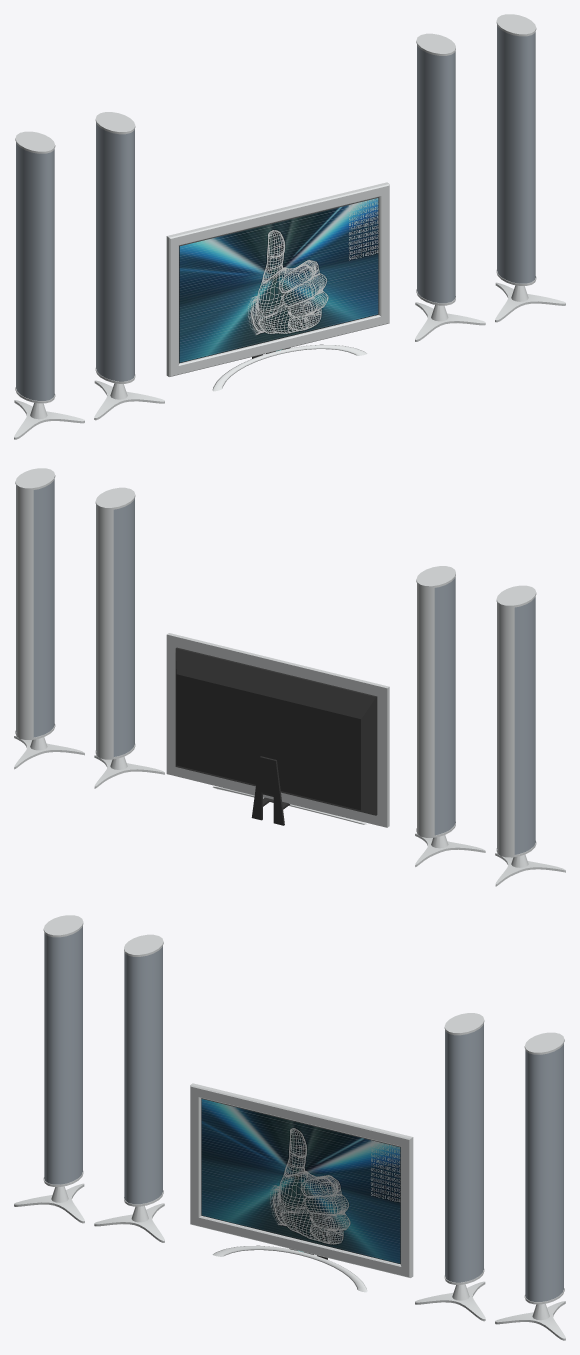
The picture shows the model from 3 angles, top to bottom: view 1: azimuth 30°, elevation 25°; view 2: azimuth 150°, elevation 25°; view 3: azimuth 330°, elevation 25°; orthographic projection.
Visible parts, largest first — view 1: tv_16x9_box01, tv_as-1_case_03, tv_as-1_case_01, tv_as-1_case_02, tv_as-1_case_04, tv_as-1_leg_02, tv_as-1_leg_03, tv_as-1_leg_01, tv_as-1_leg_04, tv_leg_torus01; view 2: tv_16x9_box01, tv_as-1_case_02, tv_as-1_case_03, tv_as-1_case_04, tv_as-1_case_01, tv_as-1_leg_03, tv_as-1_leg_04, tv_as-1_leg_02, tv_as-1_leg_01; view 3: tv_16x9_box01, tv_as-1_case_04, tv_as-1_case_01, tv_as-1_case_02, tv_as-1_case_03, tv_as-1_leg_01, tv_as-1_leg_04, tv_as-1_leg_02, tv_as-1_leg_03, tv_leg_torus01.
Boxes of the visible parts, x1,y1,x2,y2 form: tv_16x9_box01: (166,182,389,376); tv_as-1_case_03: (15,131,55,403); tv_as-1_case_01: (95,112,135,383); tv_as-1_case_02: (416,33,455,305); tv_as-1_case_04: (496,14,536,285); tv_as-1_leg_02: (415,302,485,341); tv_as-1_leg_03: (14,400,84,439); tv_as-1_leg_01: (94,380,164,420); tv_as-1_leg_04: (495,282,565,322); tv_leg_torus01: (212,344,367,391); tv_16x9_box01: (166,633,389,827); tv_as-1_case_02: (95,487,135,759); tv_as-1_case_03: (496,585,536,857); tv_as-1_case_04: (15,468,55,739); tv_as-1_case_01: (416,566,455,837); tv_as-1_leg_03: (495,853,565,886); tv_as-1_leg_04: (14,736,84,769); tv_as-1_leg_02: (94,755,164,788); tv_as-1_leg_01: (415,833,485,866); tv_16x9_box01: (190,1083,413,1277); tv_as-1_case_04: (524,1032,564,1304); tv_as-1_case_01: (124,934,163,1206); tv_as-1_case_02: (444,1013,484,1284); tv_as-1_case_03: (43,915,83,1186); tv_as-1_leg_01: (94,1203,164,1242); tv_as-1_leg_04: (495,1301,565,1340); tv_as-1_leg_02: (415,1281,485,1321); tv_as-1_leg_03: (14,1183,84,1223); tv_leg_torus01: (212,1245,367,1292).
Bounding box in the file's own units: 2754 × 1330 × 311.
5 materials, 1 textured.
